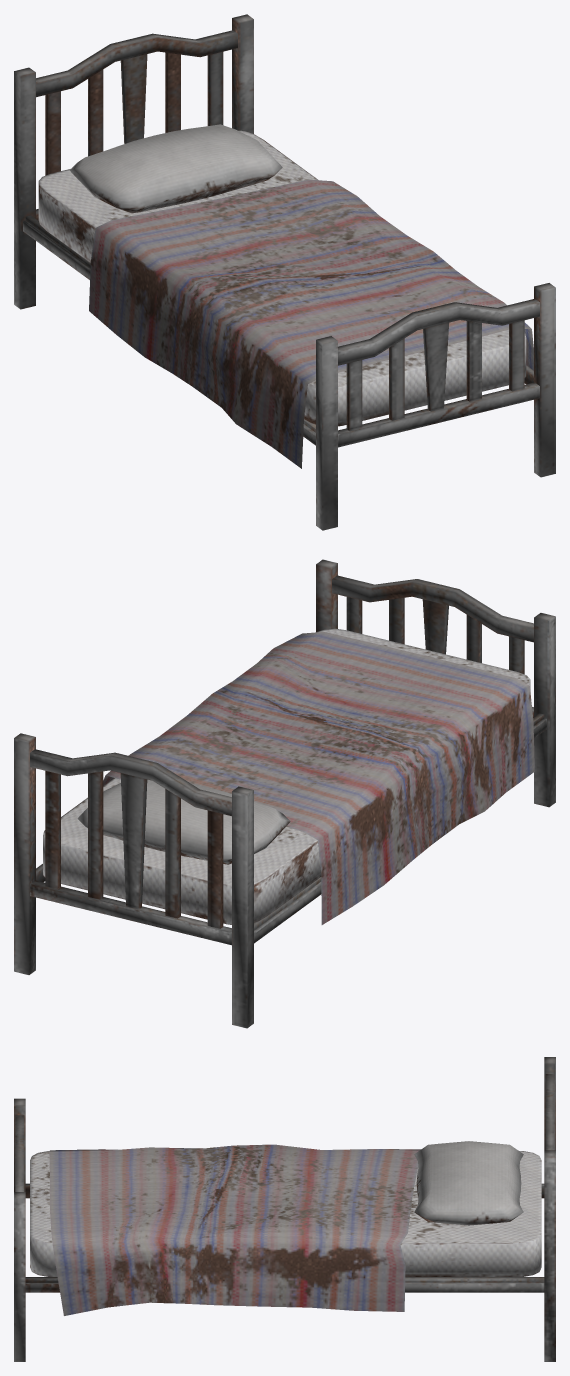
Rendered from bed.fbx.
3 views of the same model, one above another, from view 1: azimuth 30°, elevation 25°; view 2: azimuth 150°, elevation 25°; view 3: azimuth 270°, elevation 25° (orthographic). The views are drawn at different scales.
Parts seen in each view (by area): view 1: Object_2; view 2: Object_2; view 3: Object_2.
Boxes of the visible parts, bbox=[...] form: Object_2: bbox=[14, 14, 555, 530]; Object_2: bbox=[14, 559, 555, 1028]; Object_2: bbox=[14, 1057, 555, 1361].
Size of the model in its own units: 120 by 106 by 249.
1 material, 1 textured.
